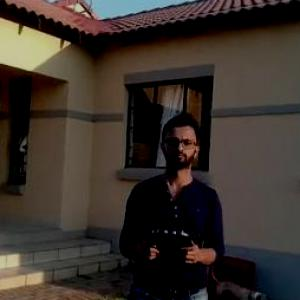follow: (109, 109, 230, 298)
null: (209, 269, 276, 299)
